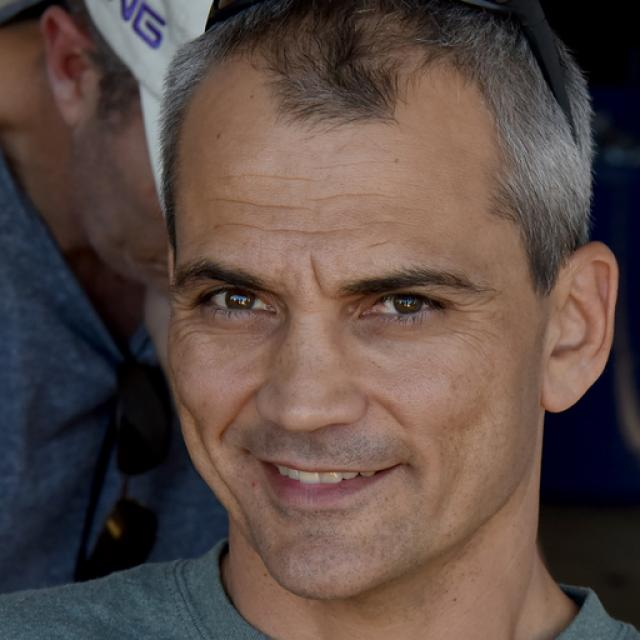Wrinkle: (209, 217, 358, 236), (215, 194, 316, 211), (230, 167, 327, 182), (315, 187, 395, 199), (306, 158, 371, 170)
